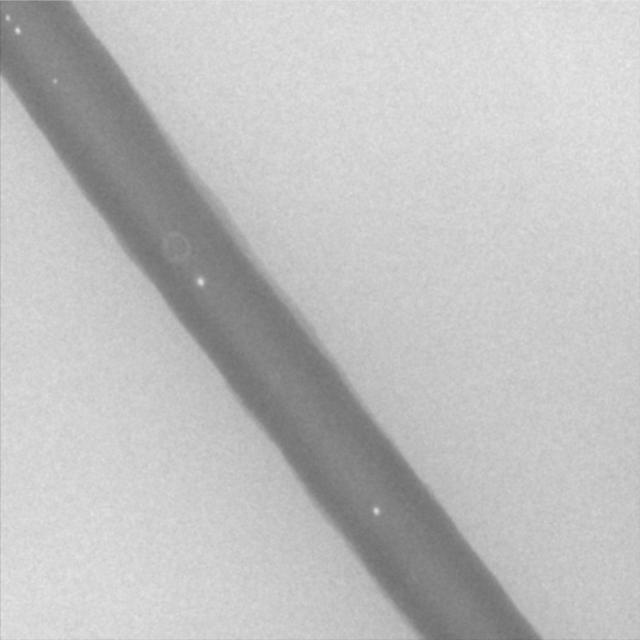air hole: (195, 275, 206, 289), (370, 505, 380, 517), (14, 25, 23, 37), (3, 12, 11, 21), (51, 76, 58, 85)
hollow bead: (159, 230, 191, 265)
